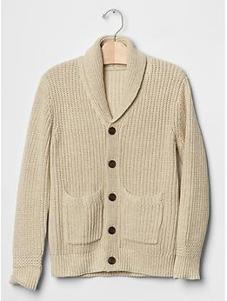C_cardigan sweater: (12, 38, 215, 297)
